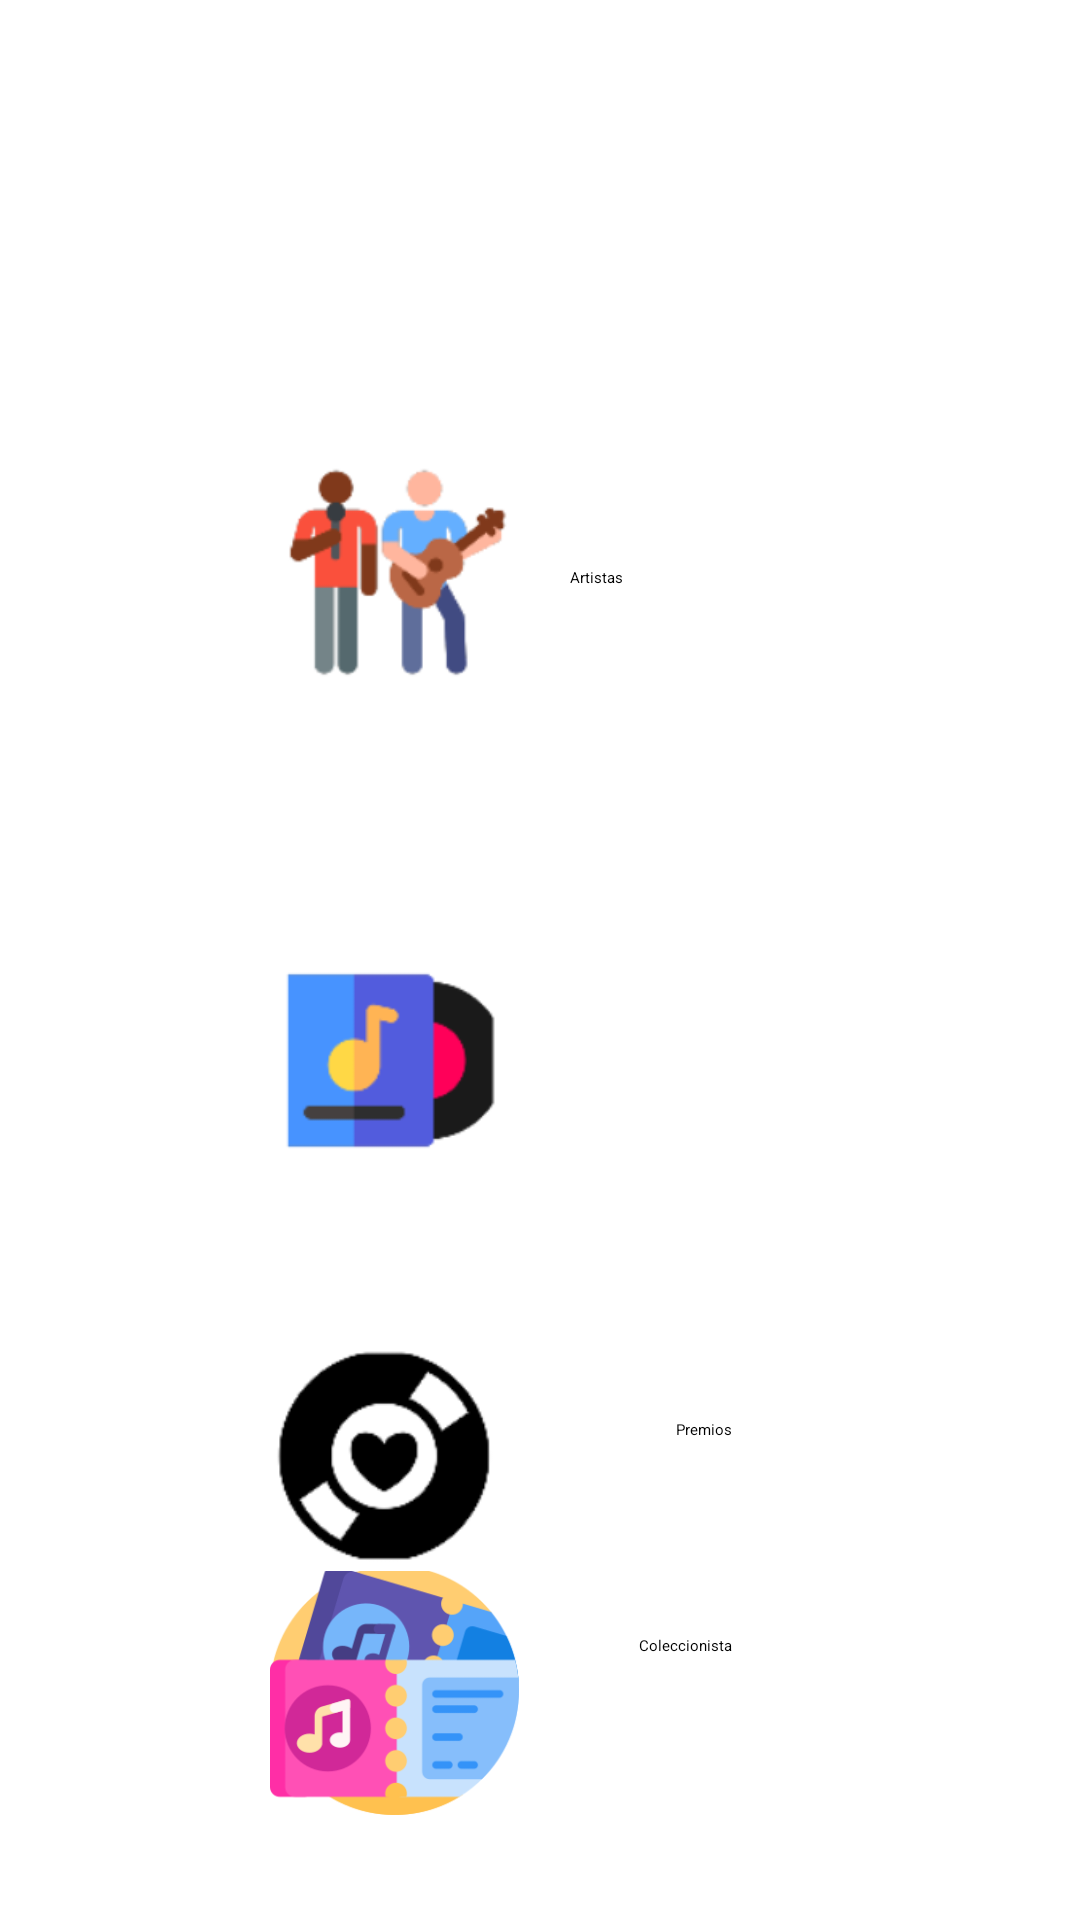

Where icons sit on this 1080 x 1920 app screen, as (left=x1, top=y1, right=x2, bottom=y2):
Imagen del botón para acceder a los Álbumes: (left=287, top=974, right=495, bottom=1148)
